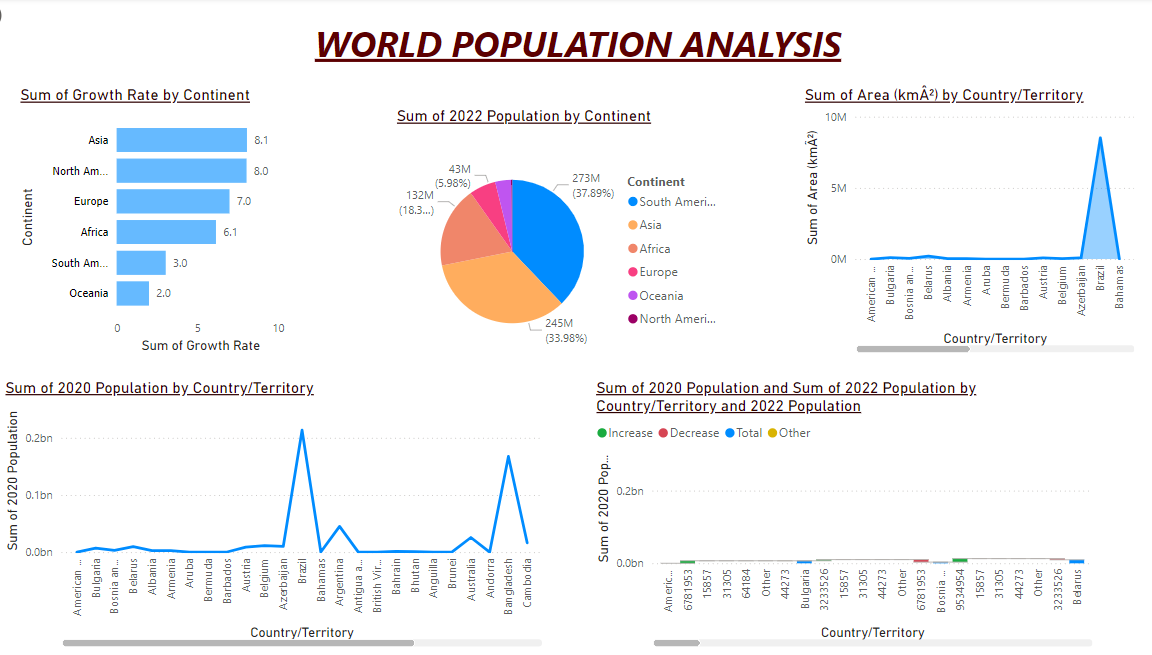

The dashboard page shown, as its layout file describes it:
{"tool":"powerbi","page":{"name":"Page 1","canvas":[1280,720],"ordinal":0},"visuals":[{"type":"actionButton","box":[0,0,100,40],"z":0},{"type":"clusteredBarChart","fields":{"Category":["Data.Continent"],"Y":["Sum(Data.Growth Rate)"]},"box":[50.2,95.5,299.6,293.1],"z":1000},{"type":"pieChart","fields":{"Category":["Data.Continent"],"Y":["Sum(Data.2022 Population)"]},"box":[456.6,118.2,365.9,293.1],"z":2000},{"type":"lineChart","fields":{"Category":["Data.Country/Territory"],"Y":["Sum(Data.2020 Population)"]},"box":[34,411.3,589.4,294.7],"z":3000},{"type":"areaChart","fields":{"Y":["Sum(Data.Area (kmÂ²))"],"Category":["Data.Country/Territory"]},"box":[897.1,95.5,365.9,293.1],"z":4000},{"type":"waterfallChart","fields":{"Category":["Data.Country/Territory"],"Breakdown":["Data.2022 Population"],"Y":["Sum(Data.2020 Population)"]},"box":[672,411.3,545.7,294.7],"z":5000},{"type":"textbox","box":[349.8,19.4,615.3,59.9],"z":6000}]}

Visuals, with their boxes in screenshot pixels (x1, y1, x2, y2), scaled from the page's 1280x720 canvas onto the 1152x655 screenshot:
actionButton: x1=0, y1=0, x2=90, y2=36
clusteredBarChart - Data.Continent x Sum(Data.Growth Rate): x1=45, y1=87, x2=315, y2=354
pieChart - Data.Continent x Sum(Data.2022 Population): x1=411, y1=108, x2=740, y2=374
lineChart - Data.Country/Territory x Sum(Data.2020 Population): x1=31, y1=374, x2=561, y2=642
areaChart - Sum(Data.Area (kmÂ²)) x Data.Country/Territory: x1=807, y1=87, x2=1137, y2=354
waterfallChart - Data.Country/Territory x Data.2022 Population: x1=605, y1=374, x2=1096, y2=642
textbox: x1=315, y1=18, x2=869, y2=72
